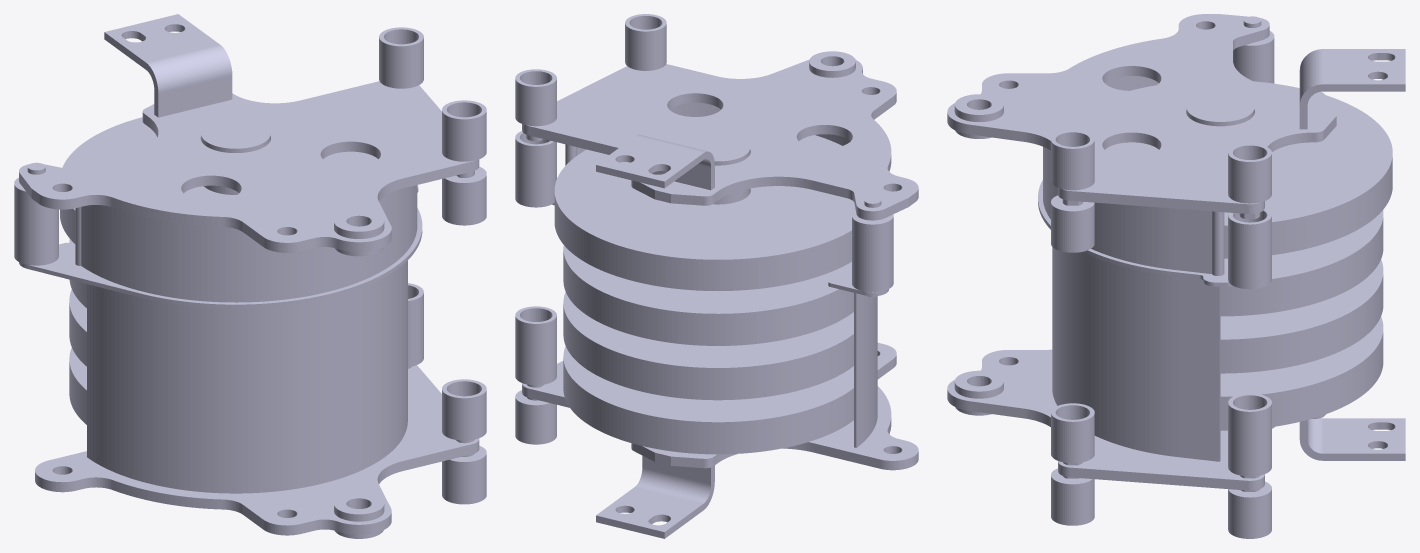
The model's file is JIB_SPREADER.obj.
3 renders of one model, left to right at view 1: azimuth 30°, elevation 25°; view 2: azimuth 150°, elevation 25°; view 3: azimuth 270°, elevation 25°, orthographic. The views are drawn at different scales.
Parts seen in each view (by area): view 1: SCX2000-3_JIB_SPREADER_U_000_1-HSC_SCX2000-3_JIB_SPREADER_U032 (; view 2: SCX2000-3_JIB_SPREADER_U_000_1-HSC_SCX2000-3_JIB_SPREADER_U032 (; view 3: SCX2000-3_JIB_SPREADER_U_000_1-HSC_SCX2000-3_JIB_SPREADER_U032 (.
Part boxes in pixels (box(x1,y1,x2,y2)): SCX2000-3_JIB_SPREADER_U_000_1-HSC_SCX2000-3_JIB_SPREADER_U032 (: box(14, 14, 486, 538); SCX2000-3_JIB_SPREADER_U_000_1-HSC_SCX2000-3_JIB_SPREADER_U032 (: box(515, 14, 918, 538); SCX2000-3_JIB_SPREADER_U_000_1-HSC_SCX2000-3_JIB_SPREADER_U032 (: box(947, 14, 1405, 538).
Bounding box in the file's own units: 930 × 845 × 931.
